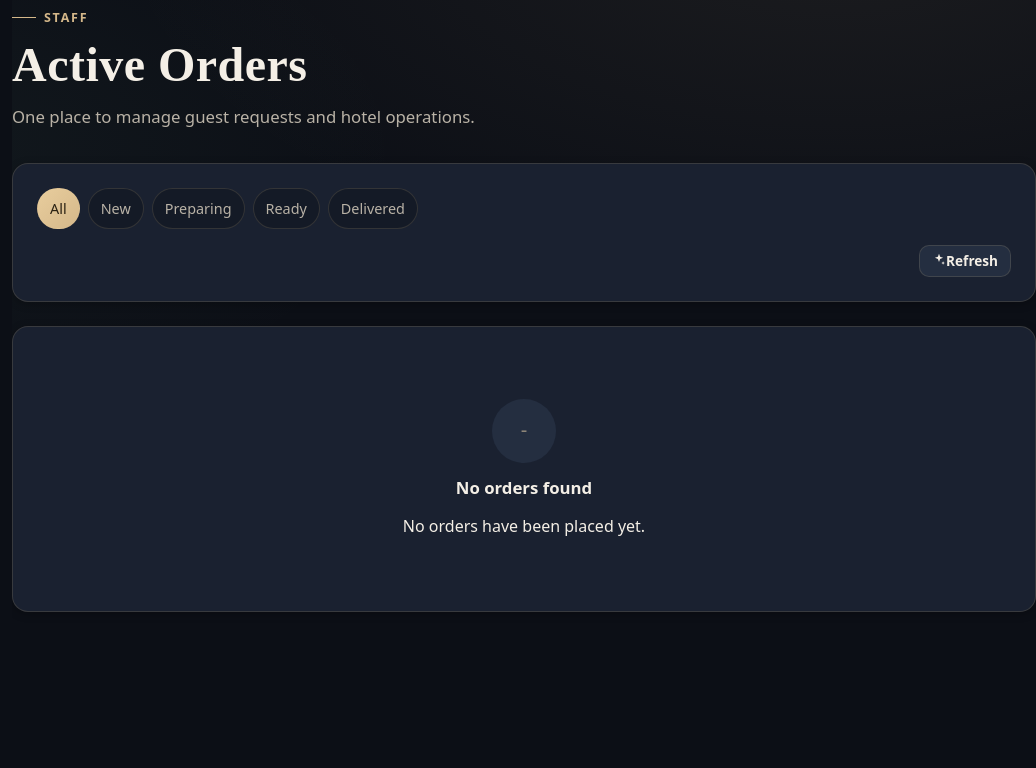
Scenario: StaffOrdersView › shows a filtered empty state
This screenshot has width=1036, height=768.
Expected: the heading "No orders found" is shown, top-left (456, 475), bottom-right (592, 502)
Click the button "Delivered".
click(373, 209)  # box top-left (328, 188), bottom-right (418, 229)
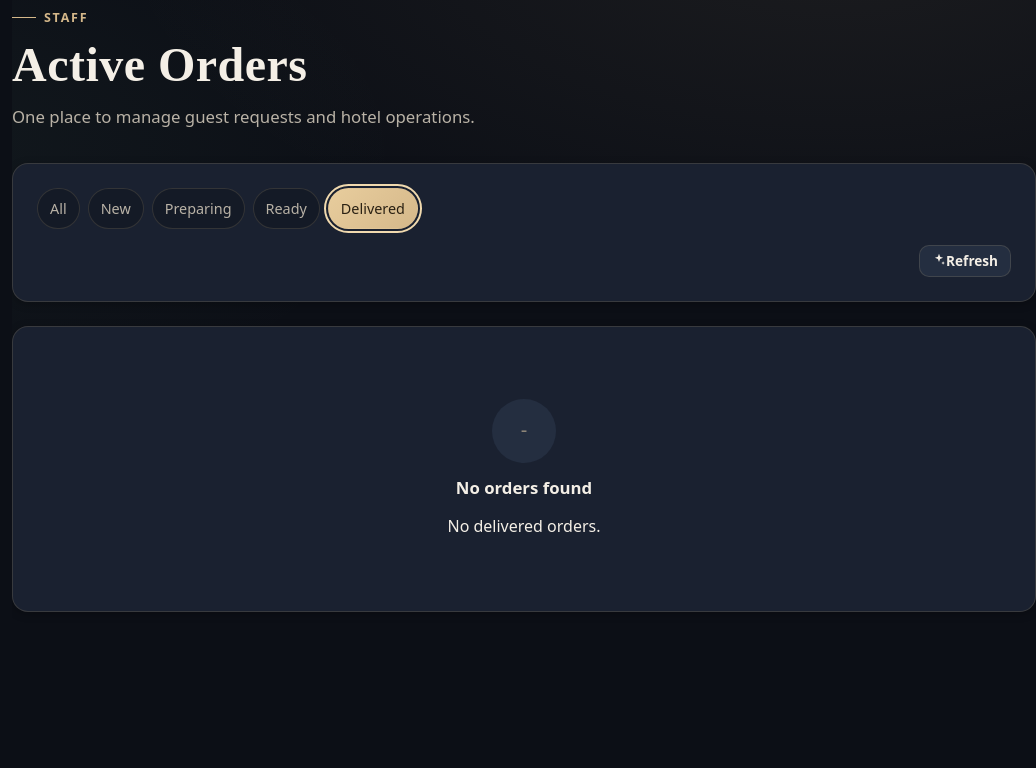
Expected: the text "No delivered orders." is shown, top-left (448, 514), bottom-right (600, 539)
